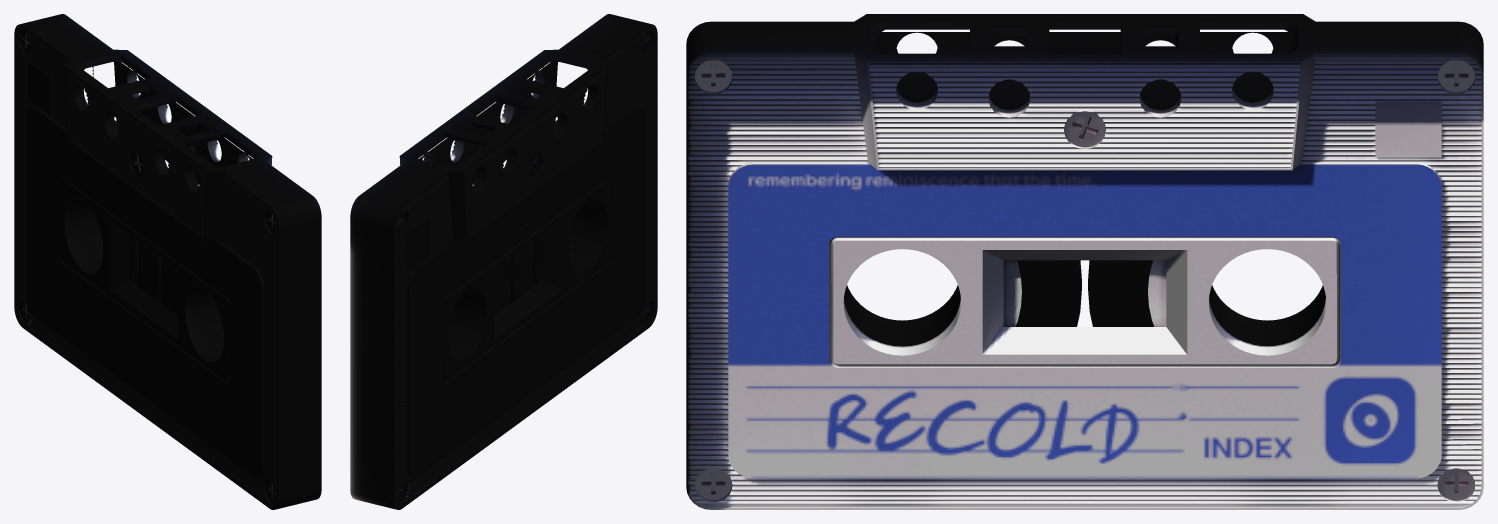
Rendered from CASSETTE_BODY.glb.
3 renders of one model, left to right at view 1: azimuth 30°, elevation 25°; view 2: azimuth 150°, elevation 25°; view 3: azimuth 270°, elevation 25°, orthographic. The views are drawn at different scales.
Visible parts, largest first — view 1: cassete_A; view 2: cassete_A; view 3: cassete_A.
Part boxes in pixels (x1,y1,x2,y2): cassete_A: (14, 14, 321, 509); cassete_A: (350, 14, 657, 509); cassete_A: (686, 14, 1483, 509).
Size of the model in its own units: 0.266 by 1.2 by 1.9.
1 material, 1 textured.
